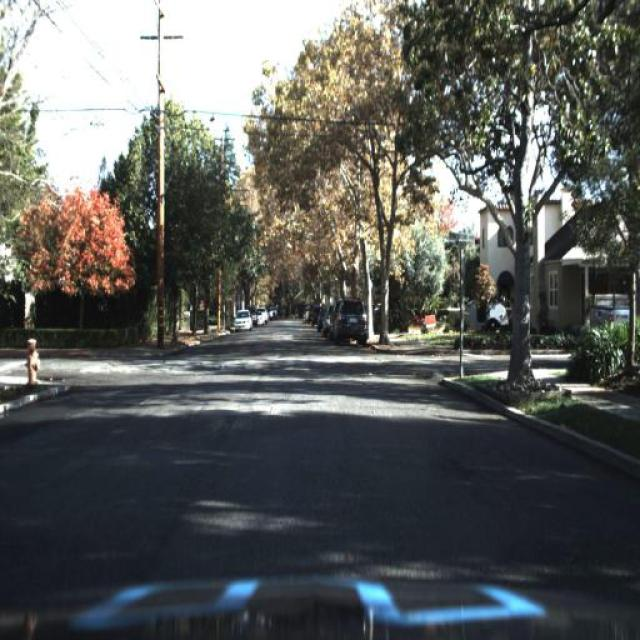car: (452, 285, 519, 340), (328, 294, 368, 350), (232, 309, 254, 335)
